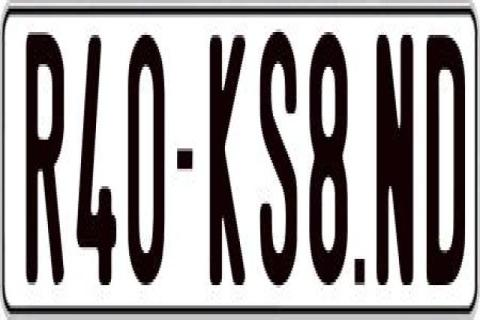0: (125, 32, 166, 296), (308, 26, 348, 294), (76, 32, 116, 291)
D: (426, 32, 466, 288)
K: (209, 29, 245, 285)
N: (374, 35, 412, 299)
R: (24, 29, 68, 297)
S: (258, 26, 301, 294)
